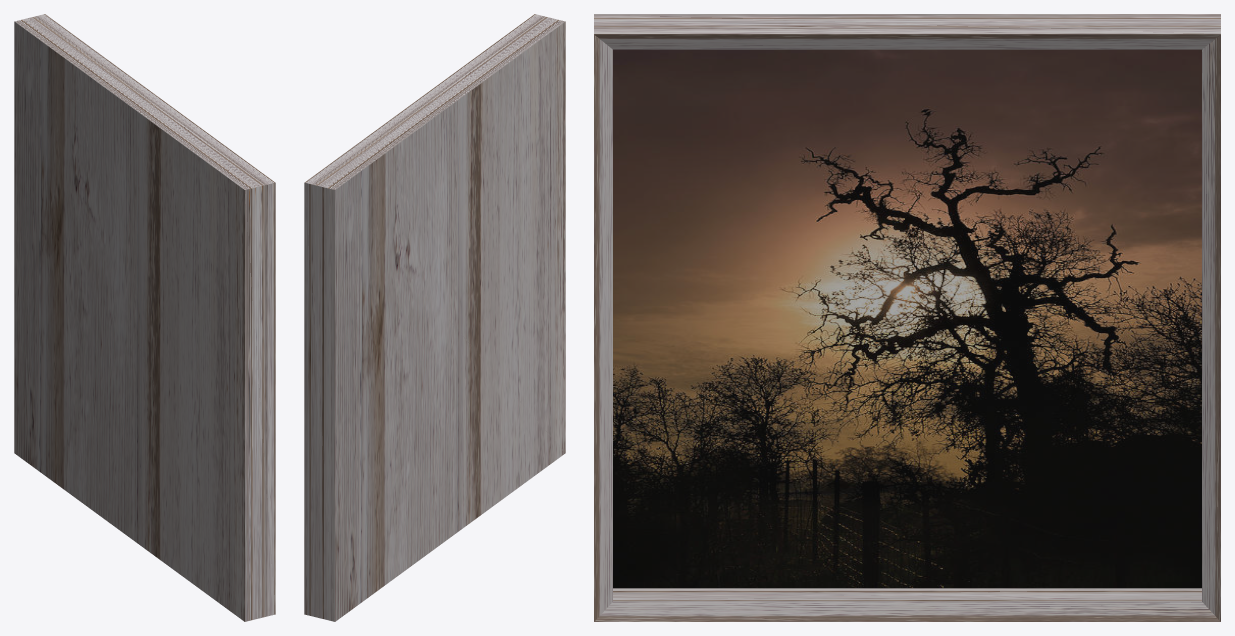
Rendered from Square Picture Frame White.obj.
3 views of the same model, side by side, from view 1: azimuth 30°, elevation 25°; view 2: azimuth 150°, elevation 25°; view 3: azimuth 270°, elevation 25° (orthographic). The views are drawn at different scales.
Visible parts, largest first — view 1: cadre_Cube.001; view 2: cadre_Cube.001; view 3: centre_Cube.002, cadre_Cube.001.
Part boxes in pixels (bbox=[...]): cadre_Cube.001: bbox=[14, 14, 275, 621]; cadre_Cube.001: bbox=[304, 14, 565, 621]; centre_Cube.002: bbox=[613, 49, 1201, 588]; cadre_Cube.001: bbox=[594, 14, 1220, 621].
Size of the model in its own units: 0.18 by 2.42 by 2.34.
2 materials, 2 textured.
